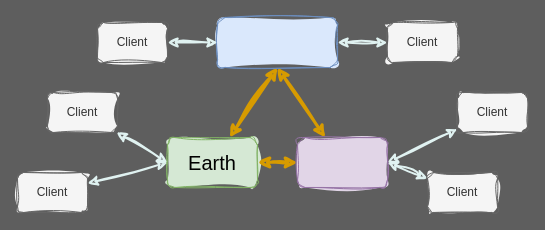
Image size: 545x230. Some labels were removed from this diagram. The shapes that lost their labels are listed below. From the top down, each one's centre as x and y in pixels, then its label:
the point at 277,42: Helicarrier
the point at 342,162: Asgard
